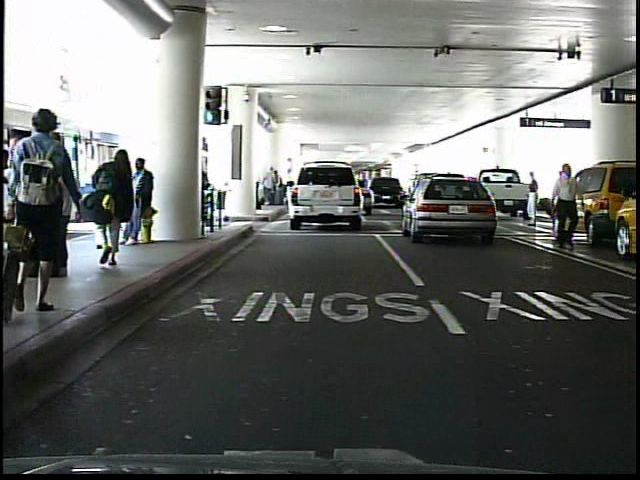person: (21, 108, 79, 325), (94, 139, 143, 273), (124, 155, 160, 250), (552, 161, 584, 254), (527, 171, 546, 228), (557, 169, 567, 210)
